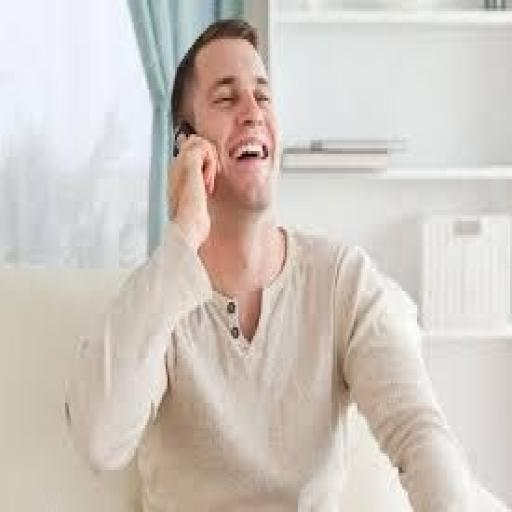calling: (62, 14, 510, 509)
